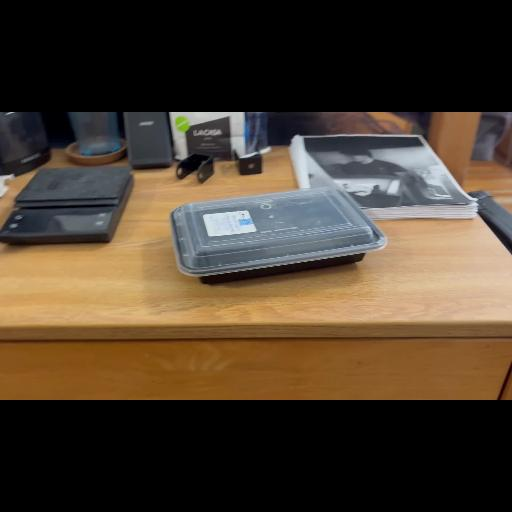rigid_plastic_container: (152, 183, 392, 287)
